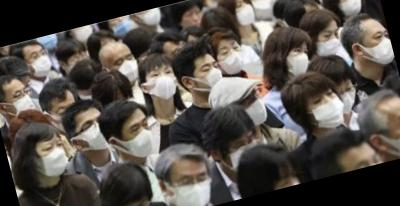with_mask: (307, 85, 352, 134), (167, 166, 219, 206), (33, 137, 73, 181), (361, 27, 398, 71), (226, 133, 266, 173), (124, 116, 158, 162), (145, 63, 181, 104), (239, 87, 272, 129), (78, 113, 112, 153), (216, 39, 250, 78), (5, 82, 38, 117), (313, 24, 346, 59), (111, 50, 142, 86), (333, 80, 363, 117), (197, 58, 228, 93), (26, 46, 56, 81), (285, 44, 315, 78), (53, 102, 81, 135), (390, 111, 400, 158), (114, 196, 156, 206)
without_mask: (183, 7, 206, 31)
